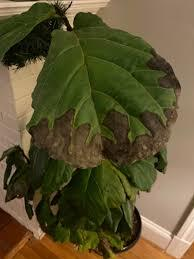root_rot: (5, 12, 163, 259)
